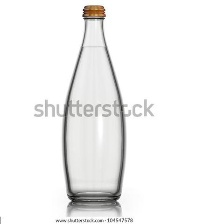bottle: (58, 2, 130, 203)
